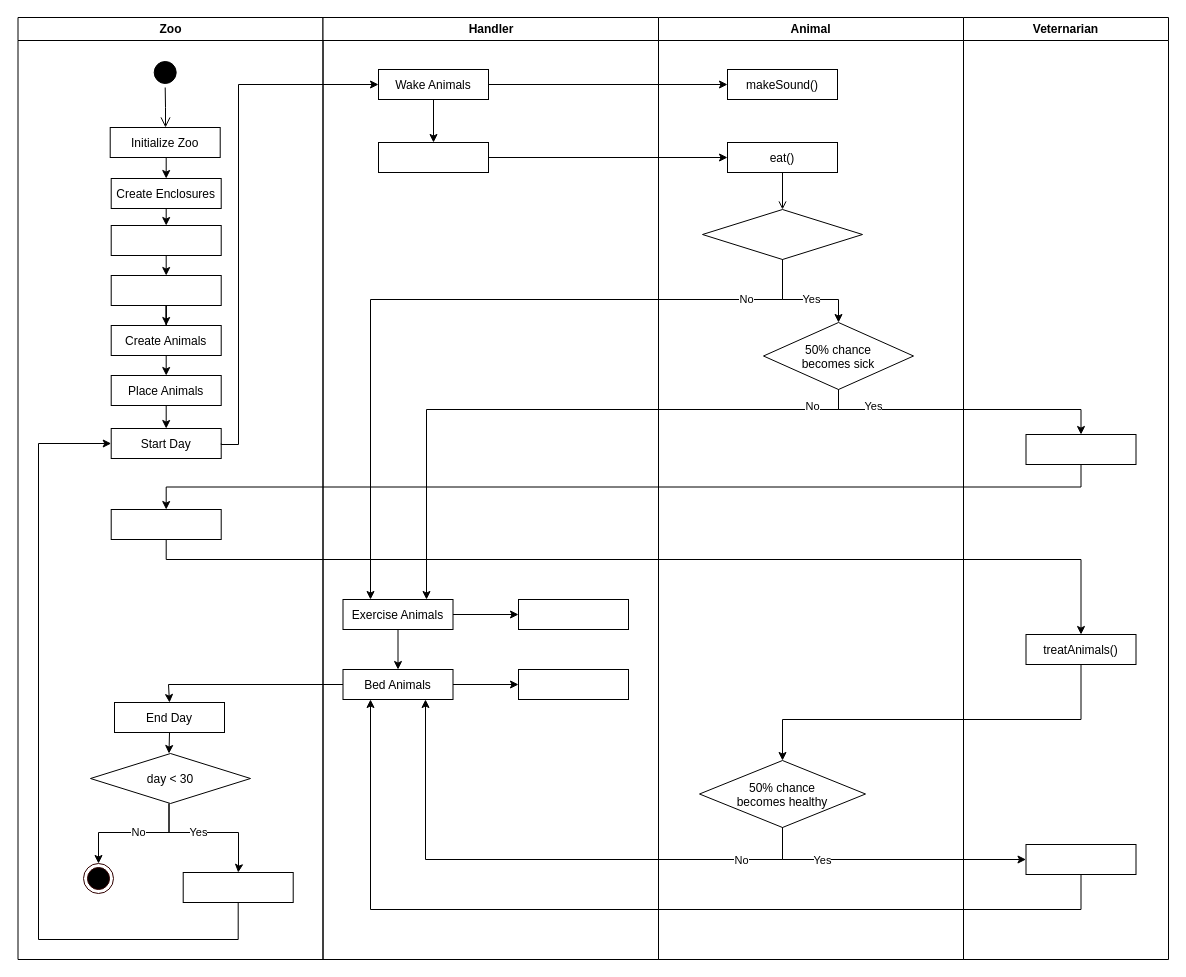
Some shapes in this 1186 by 977 pixel diagram are drawn without their labels. The shapes that lost their labels are listed below. From the top down, each one's centre as x and y in pixels, then its label:
At (433,157): "Feed Animals".
At (165,240): "Create Hospital".
At (782,234): "Eats 0 or too much?".
At (165,290): "Create Staff".
At (1080,449): "admitAnimal()".
At (165,524): "zooStatus()".
At (573,614): "roam()".
At (573,684): "sleep()".
At (1080,859): "releaseAnimal()".
At (237,887): "day = day +1".
